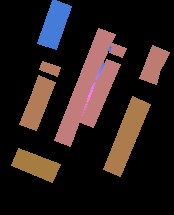parkingspot: (54, 28, 115, 146), (103, 96, 150, 176), (80, 59, 120, 127), (19, 75, 55, 130), (37, 0, 71, 49), (11, 148, 60, 182), (139, 45, 169, 84), (39, 61, 60, 76), (109, 43, 126, 57)
